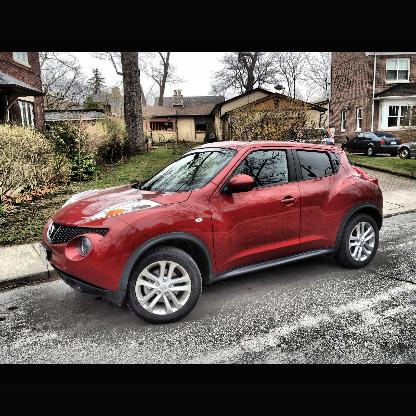Nissan Juke Hatchback 2012: (40, 141, 387, 325)
